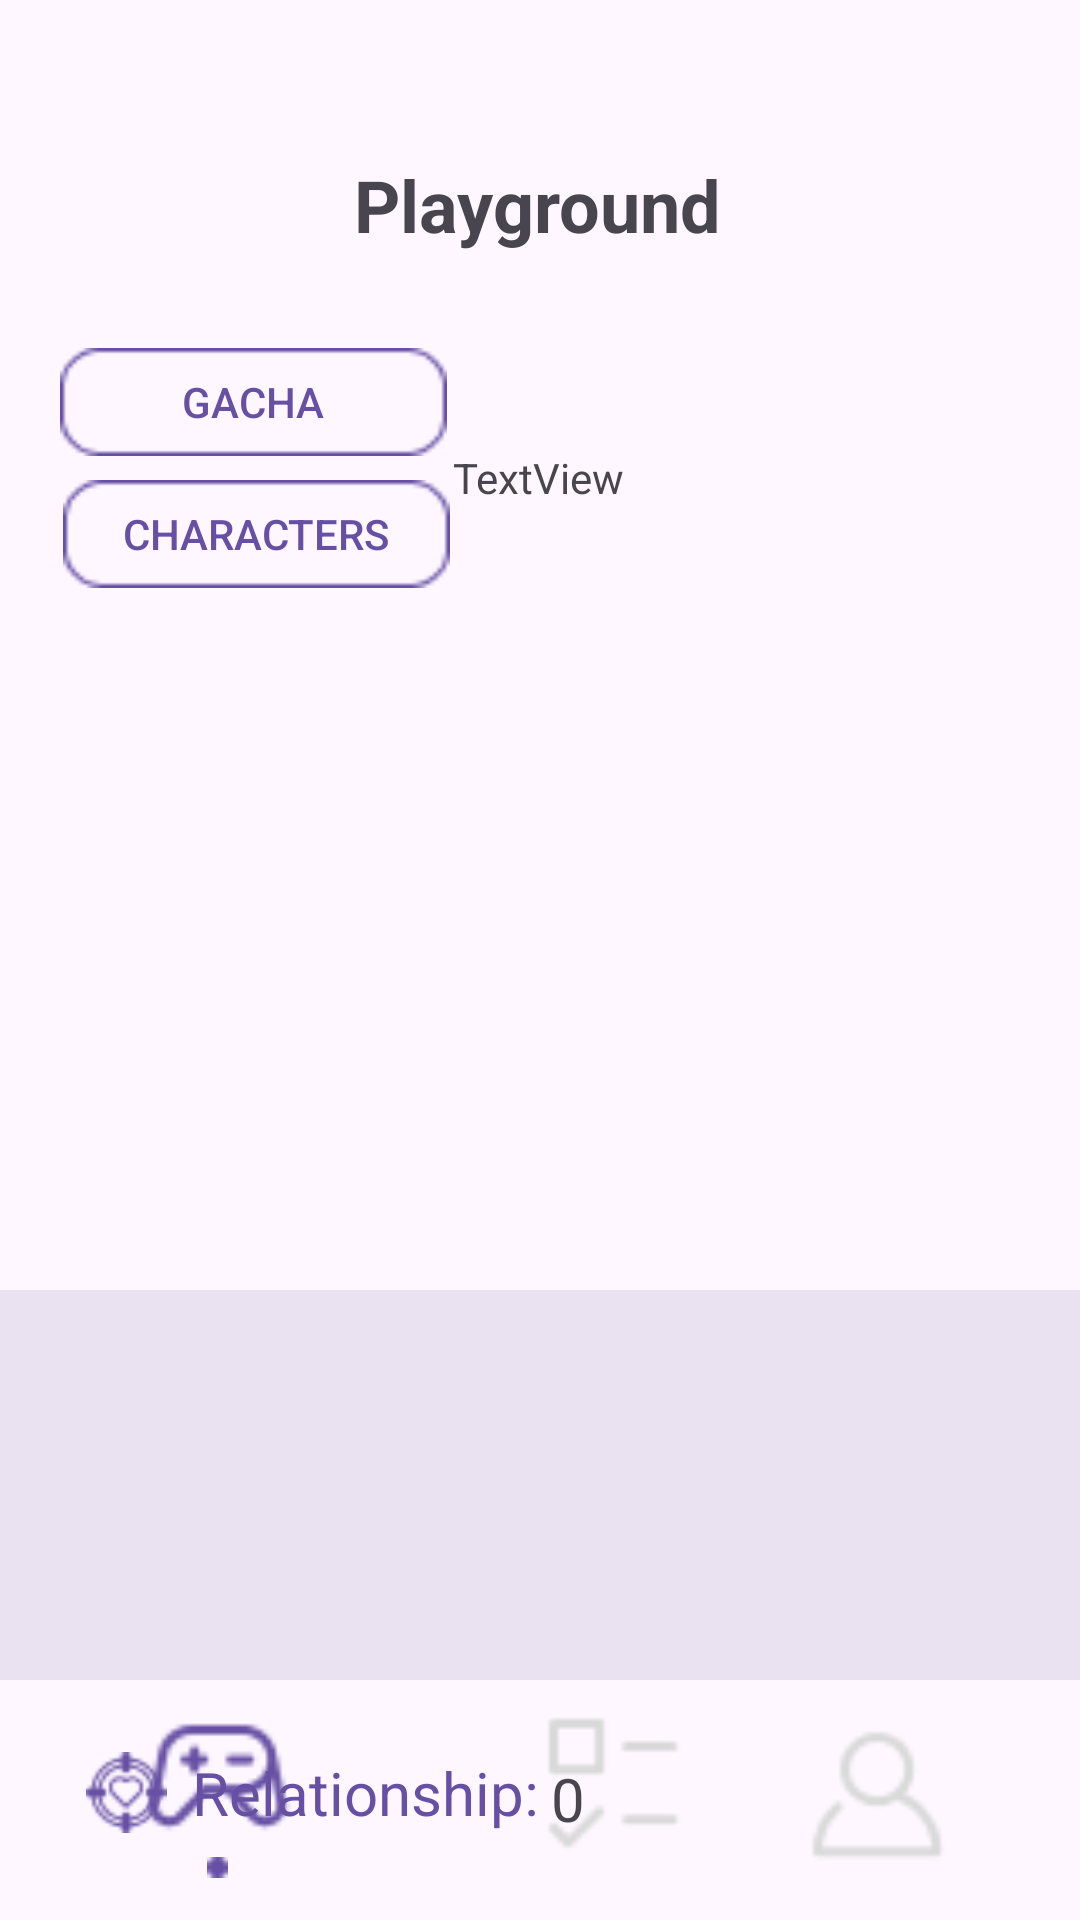

Named icons in this screenshot (1080*1920) and their bounding boxes, (x1, y1, x2, y2):
love: (86, 1752, 168, 1833)
profile: (814, 1733, 940, 1855)
